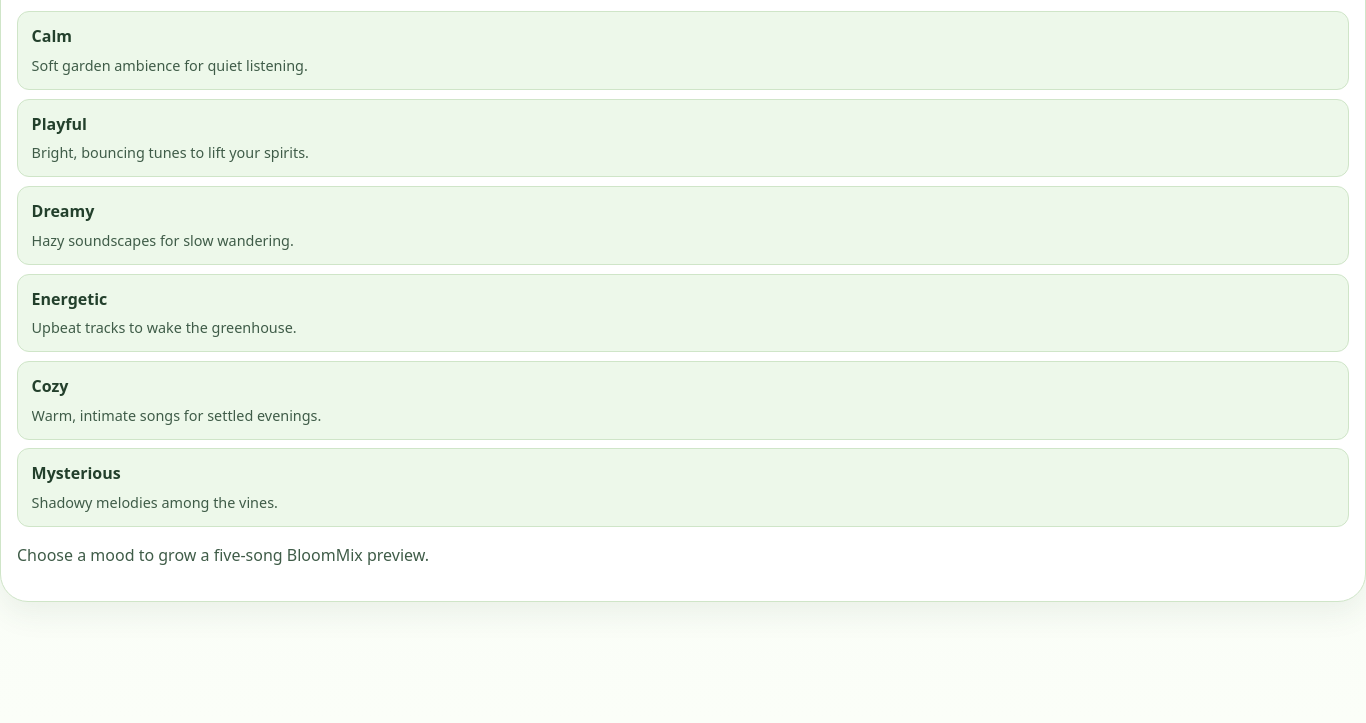
Scenario: BloomMixPanel › loads tracks for the selected mood and shows a successful preview
Click the button "Calm Soft garden ambience for quiet listening.".
click(52, 36)  # box [17,11,1349,90]
(page scrolled)
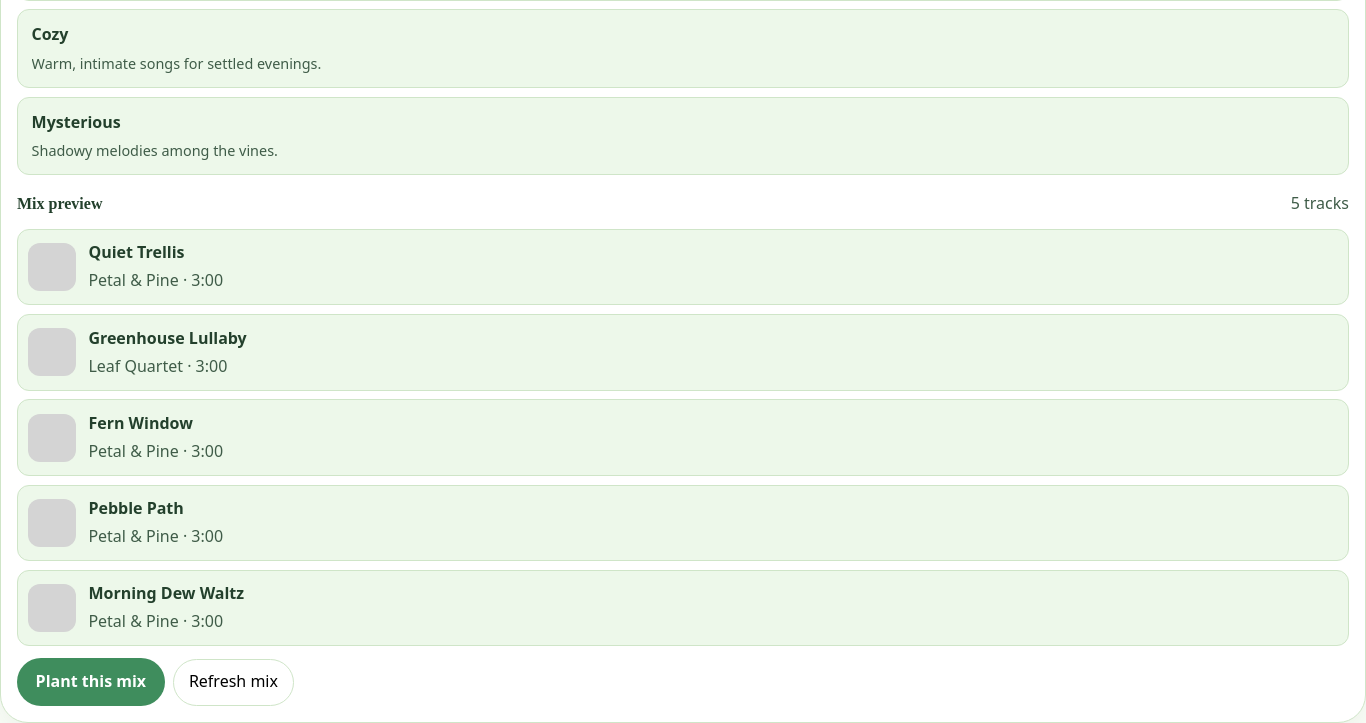
Now the number of list items is 5, box [17,229,1349,305]; [17,314,1349,391]; [17,399,1349,476]; [17,484,1349,561]; [17,570,1349,646]
Now the button "Plant this mix" is enabled, box [17,658,165,706]
Now the button "Refresh mix" is shown, box [173,659,294,706]
